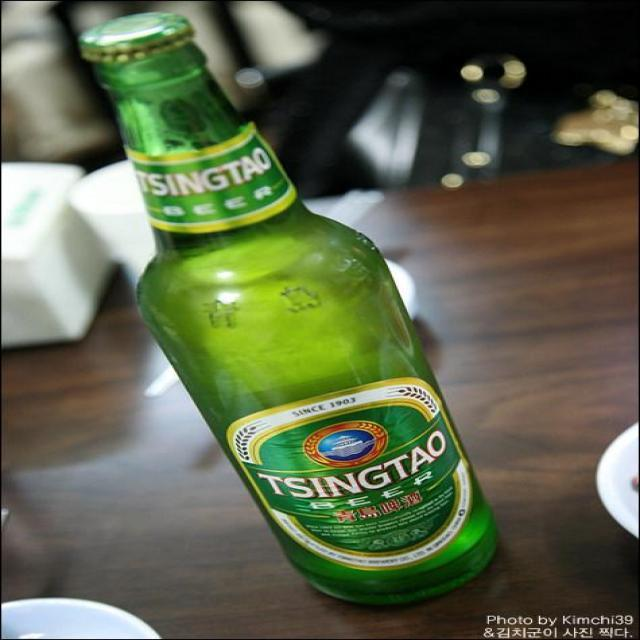beer-bottle: (34, 6, 544, 615)
